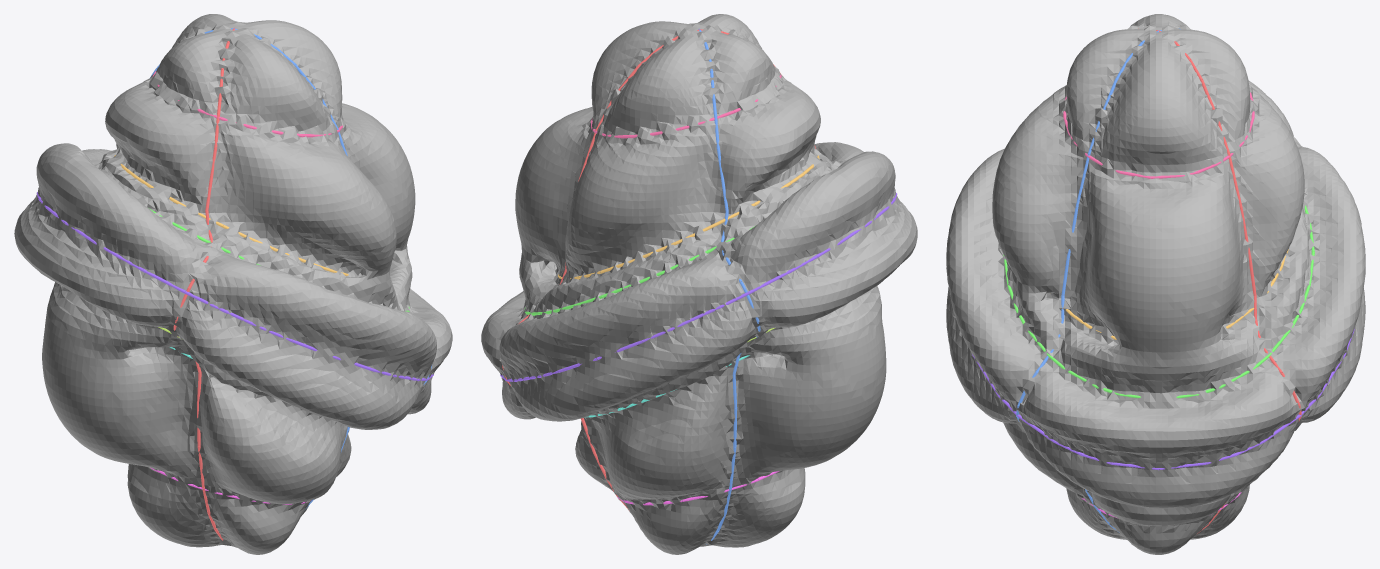
Rendered from flowrep_ellipsetorus.gltf.
The picture shows the model from 3 angles, left to right: view 1: azimuth 30°, elevation 25°; view 2: azimuth 150°, elevation 25°; view 3: azimuth 270°, elevation 25°; orthographic projection.
Bounding box in the file's own units: 0.5515 × 0.7141 × 0.5325.
